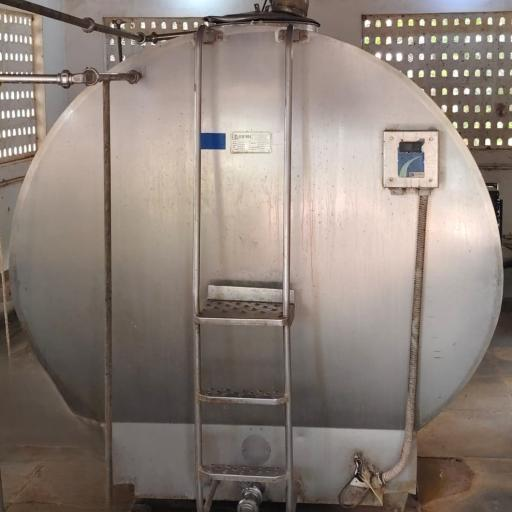silo: (3, 5, 505, 507)
